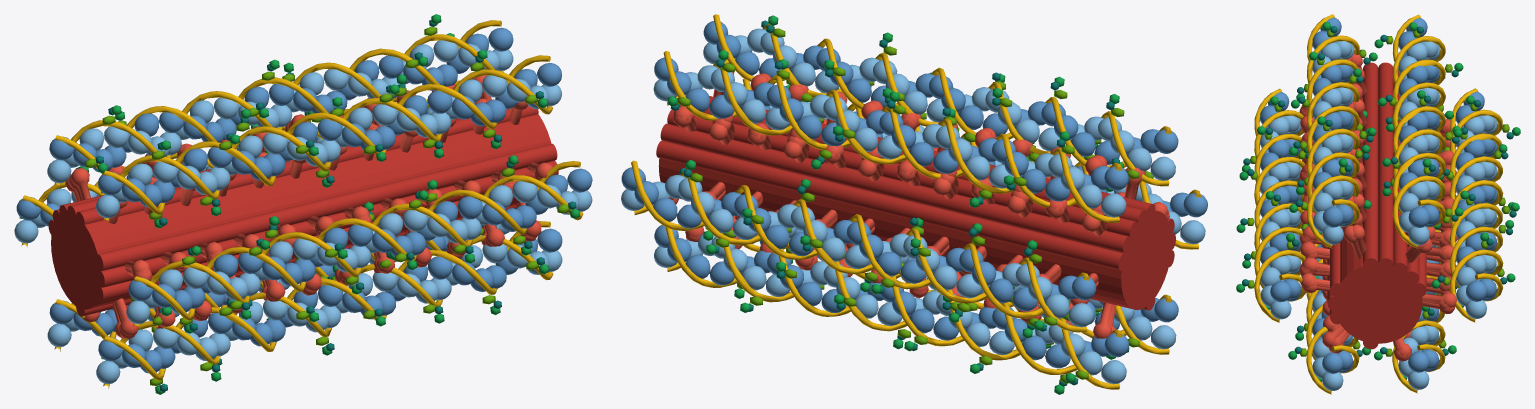
The model's file is filaments.glb.
3 views of the same model, side by side, from view 1: azimuth 30°, elevation 25°; view 2: azimuth 150°, elevation 25°; view 3: azimuth 270°, elevation 25° (orthographic). The views are drawn at different scales.
Visible parts, largest first — view 1: Thick filament, Actin.004, Actin.005, Actin.006, Actin.002, Tropomyosin.019, Tropomyosin.015, Tropomyosin.017, Tropomyosin.013, Tropomyosin.021, Tropomyosin.022, Actin.003 (+12 smaller); view 2: Thick filament, Actin.006, Actin.001, Actin.005, Actin.003, Tropomyosin.003, Tropomyosin.022, Tropomyosin.001, Tropomyosin.021, Tropomyosin.011, Tropomyosin.009, Actin.002 (+13 smaller); view 3: Thick filament, Actin.006, Actin.005, Actin.001, Actin.004, Tropomyosin.022, Tropomyosin.021, Tropomyosin.017, Tropomyosin.001, Tropomyosin.019, Tropomyosin.003, Tropomyosin.013 (+26 smaller).
Boxes of the visible parts, <box> form: Thick filament: <box>48,99,558,316</box>; Actin.004: <box>126,168,592,324</box>; Actin.005: <box>96,63,561,218</box>; Actin.006: <box>47,27,513,183</box>; Actin.002: <box>96,228,562,384</box>; Tropomyosin.019: <box>104,55,550,214</box>; Tropomyosin.015: <box>134,161,580,320</box>; Tropomyosin.017: <box>103,69,552,222</box>; Tropomyosin.013: <box>133,175,583,327</box>; Tropomyosin.021: <box>55,20,501,174</box>; Tropomyosin.022: <box>54,34,503,187</box>; Actin.003: <box>47,224,509,347</box>; Thick filament: <box>656,96,1175,310</box>; Actin.006: <box>653,57,1128,217</box>; Actin.001: <box>621,167,1096,327</box>; Actin.005: <box>703,21,1178,180</box>; Actin.003: <box>654,225,1128,384</box>; Tropomyosin.003: <box>631,160,1089,318</box>; Tropomyosin.022: <box>666,62,1119,222</box>; Tropomyosin.001: <box>634,172,1087,332</box>; Tropomyosin.021: <box>663,51,1122,207</box>; Tropomyosin.011: <box>665,227,1122,374</box>; Tropomyosin.009: <box>667,233,1119,389</box>; Actin.002: <box>704,226,1178,349</box>; Thick filament: <box>1327,62,1426,349</box>; Actin.006: <box>1398,18,1440,245</box>; Actin.005: <box>1312,17,1354,244</box>; Actin.001: <box>1455,92,1497,318</box>; Actin.004: <box>1260,92,1301,319</box>; Tropomyosin.022: <box>1392,36,1445,248</box>; Tropomyosin.021: <box>1392,14,1445,227</box>; Tropomyosin.017: <box>1306,35,1359,248</box>; Tropomyosin.001: <box>1450,109,1503,322</box>; Tropomyosin.019: <box>1306,14,1359,227</box>; Tropomyosin.003: <box>1449,88,1503,301</box>; Tropomyosin.013: <box>1254,110,1305,322</box>.
Bounding box in the file's own units: 7.84 × 4.25 × 4.73.
